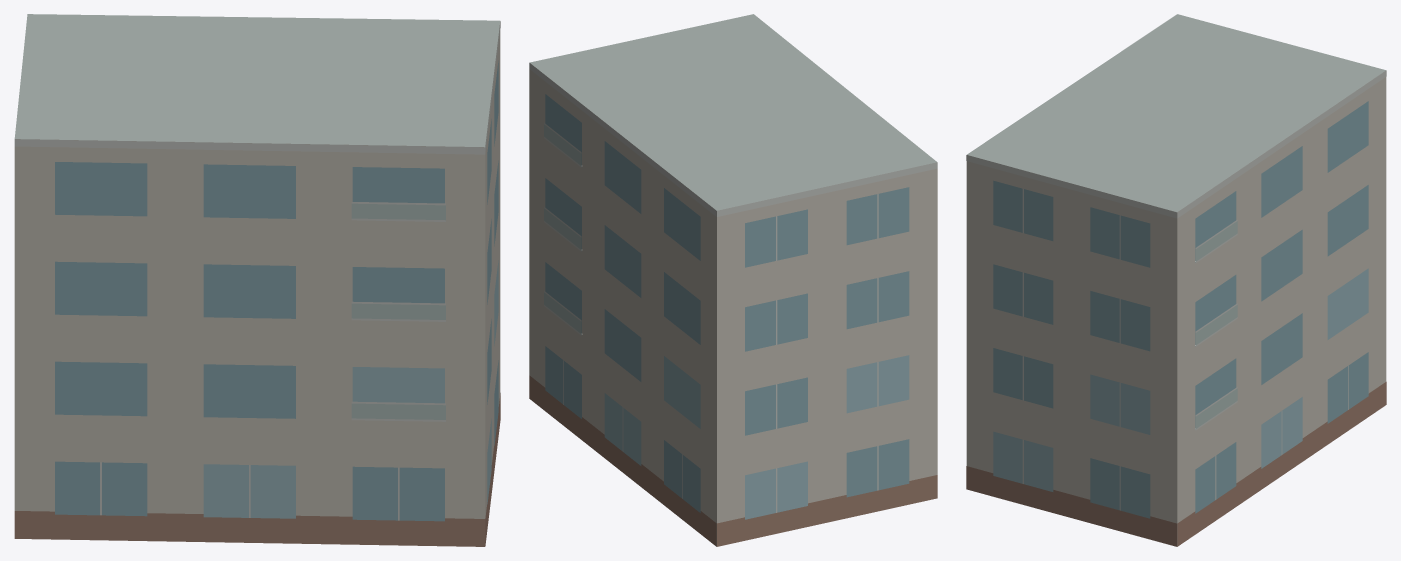
Rendered from survey-upis-32864853.glb.
The picture shows the model from 3 angles, left to right: view 1: azimuth 30°, elevation 25°; view 2: azimuth 150°, elevation 25°; view 3: azimuth 270°, elevation 25°; orthographic projection. The views are drawn at different scales.
Parts seen in each view (by area): view 1: survey-upis-32864853.tmp; view 2: survey-upis-32864853.tmp; view 3: survey-upis-32864853.tmp.
Part boxes in pixels (box(x1,y1,x2,y2)): survey-upis-32864853.tmp: box(14, 14, 500, 546); survey-upis-32864853.tmp: box(529, 14, 937, 546); survey-upis-32864853.tmp: box(966, 14, 1386, 546).
Bounding box in the file's own units: 16.47 × 12.95 × 14.74.
